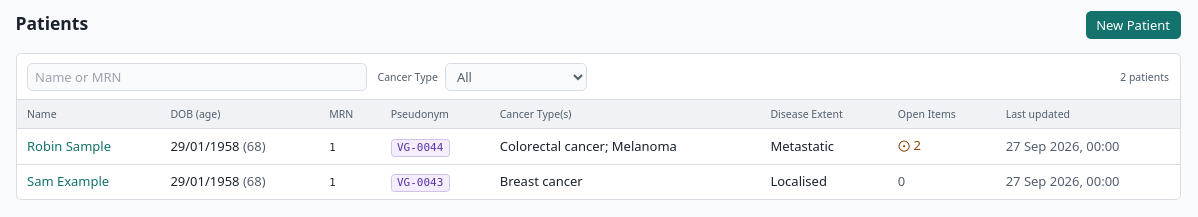
Test: The Patient List › adds Oncology's Cancer Type(s) and Disease Extent, filters by Cancer Type, and counts Open Items
Expected: the text "Colorectal cancer; Melanoma" is shown, [489,129,760,164]
Expected: the row "Robin Sample" shows "Metastatic", [770,137,834,155]
Select "Breast cancer" in the dropdown labelled "Cancer Type" at (516, 77), box [445,63,587,91]
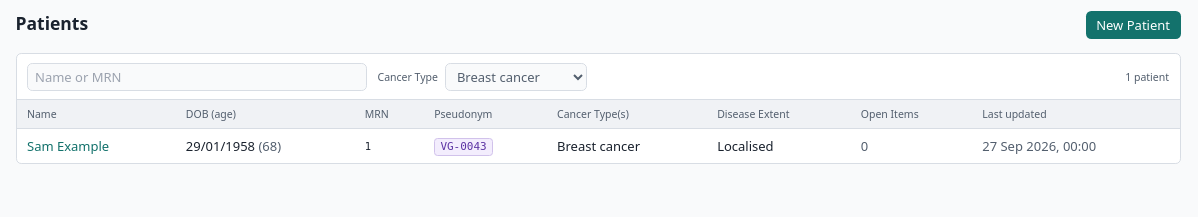
Result: the link "Robin Sample" is gone
Result: the element named "Patients filters" shows "1 patient" at [1125,70,1169,84]
